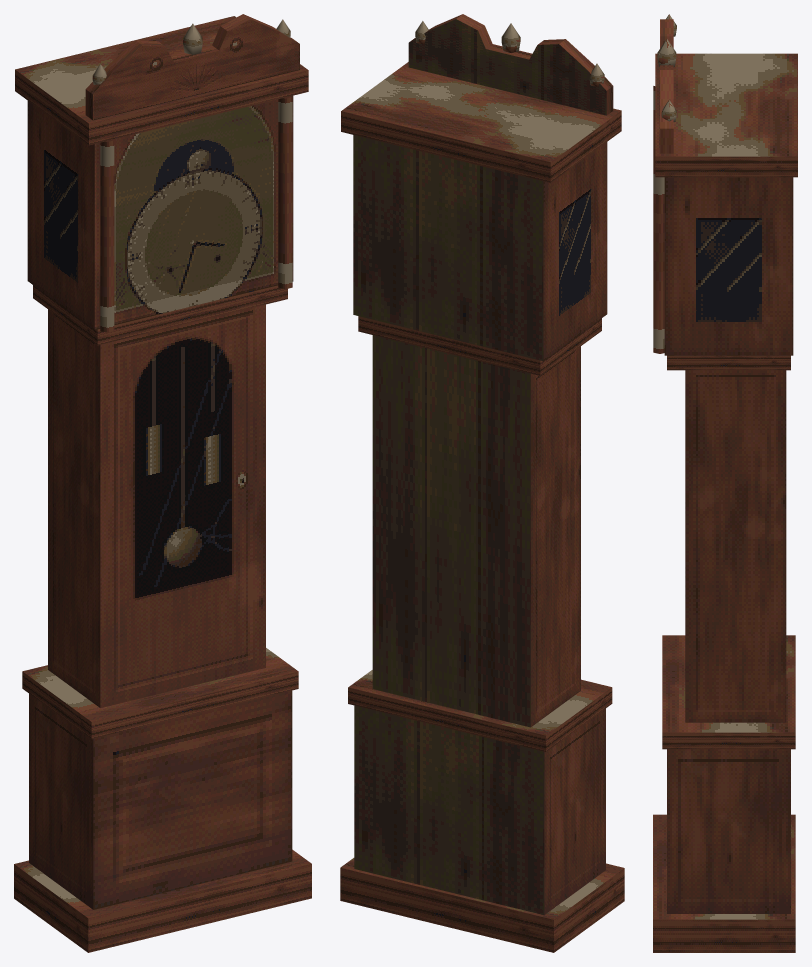
File: grandfather_clock.glb
The picture shows the model from 3 angles, left to right: view 1: azimuth 30°, elevation 25°; view 2: azimuth 150°, elevation 25°; view 3: azimuth 270°, elevation 25°; orthographic projection. The views are drawn at different scales.
Visible parts, largest first — view 1: grandfather_clock; view 2: grandfather_clock; view 3: grandfather_clock.
Boxes of the visible parts, x1,y1,x2,y2 form: grandfather_clock: [14, 14, 311, 952]; grandfather_clock: [340, 14, 624, 952]; grandfather_clock: [653, 14, 797, 952].
Bounding box in the file's own units: 0.54 × 2.07 × 0.315.
Materials: 1 (1 with a texture image).
